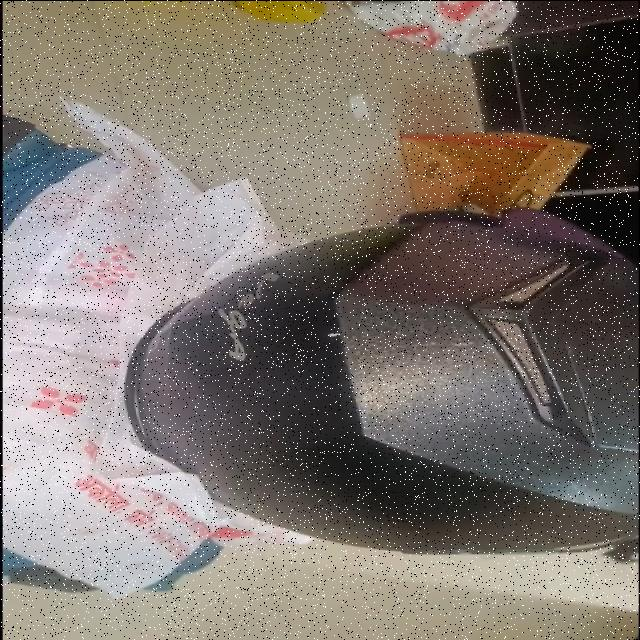Helmet: (122, 197, 635, 554)
